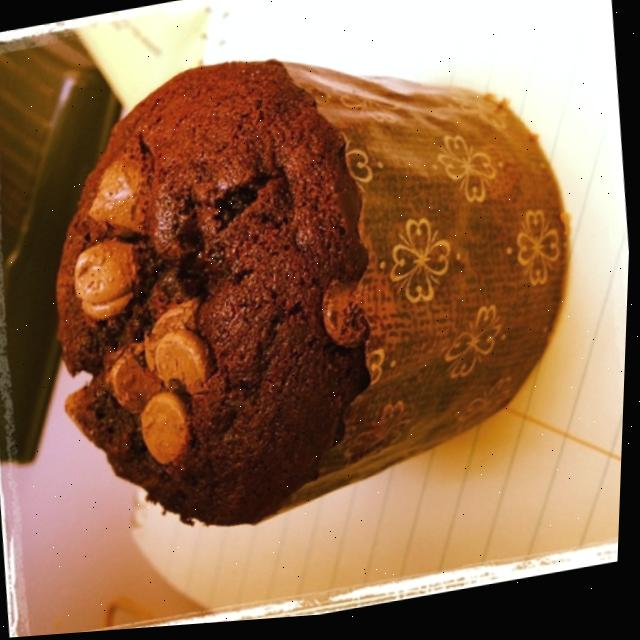炸货点心: (33, 0, 593, 571)
面包点心: (33, 0, 593, 571)
